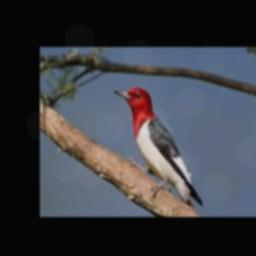Woodpecker: (114, 87, 203, 212)
